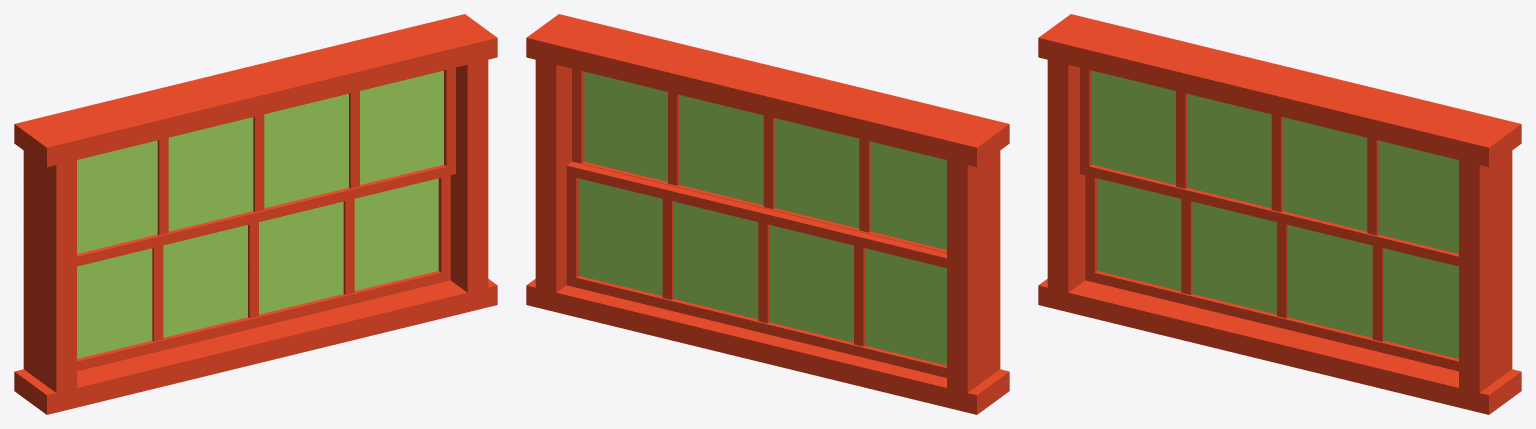
The model's file is SM_Window_Sliding_A_Survival.fbx.
3 views of the same model, side by side, from view 1: azimuth 30°, elevation 25°; view 2: azimuth 150°, elevation 25°; view 3: azimuth 330°, elevation 25° (orthographic).
Parts seen in each view (by area): view 1: window-sliding-a-frame-survival, window-sliding-a-window-survival; view 2: window-sliding-a-frame-survival, window-sliding-a-window-survival; view 3: window-sliding-a-frame-survival, window-sliding-a-window-survival.
Boxes of the visible parts, bbox=[...] form: window-sliding-a-frame-survival: bbox=[14, 14, 497, 414]; window-sliding-a-window-survival: bbox=[77, 175, 450, 371]; window-sliding-a-frame-survival: bbox=[526, 14, 1009, 414]; window-sliding-a-window-survival: bbox=[566, 161, 946, 377]; window-sliding-a-frame-survival: bbox=[1038, 14, 1521, 414]; window-sliding-a-window-survival: bbox=[1085, 175, 1458, 371].
Size of the model in its own units: 2.4 by 1.36 by 0.3.
